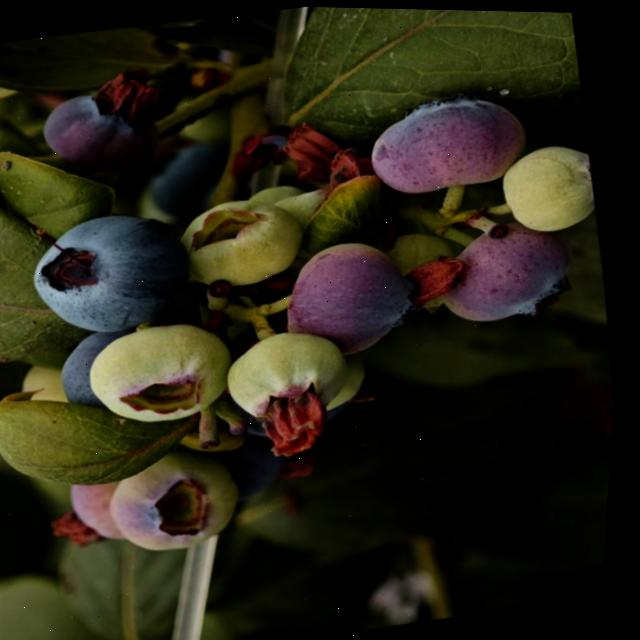RipeBlueBerry: (25, 196, 206, 339)
Semi-RipeBlueBerry: (271, 226, 433, 366), (365, 83, 543, 205), (434, 214, 588, 330), (38, 64, 174, 180)
UnripeBlueBerry: (79, 314, 242, 436), (106, 444, 256, 562), (222, 322, 364, 432), (397, 196, 424, 234)
